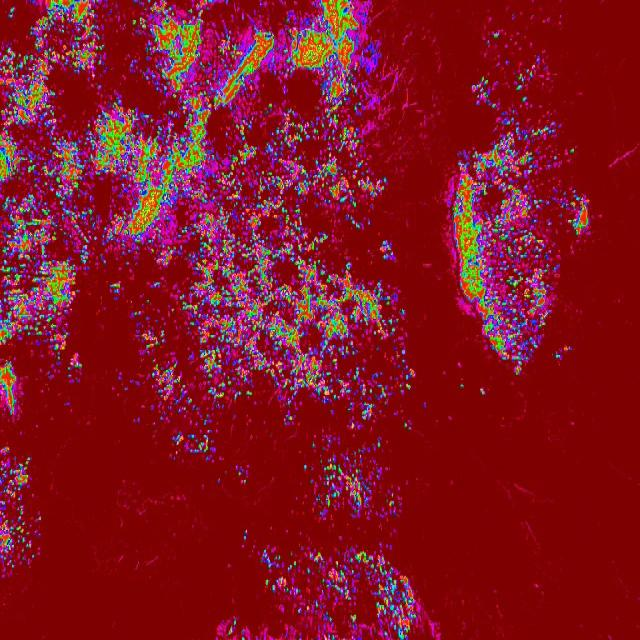fire: (0, 0, 397, 440), (451, 124, 561, 368), (258, 547, 426, 640), (313, 449, 395, 528), (0, 450, 47, 578), (566, 189, 592, 236)
